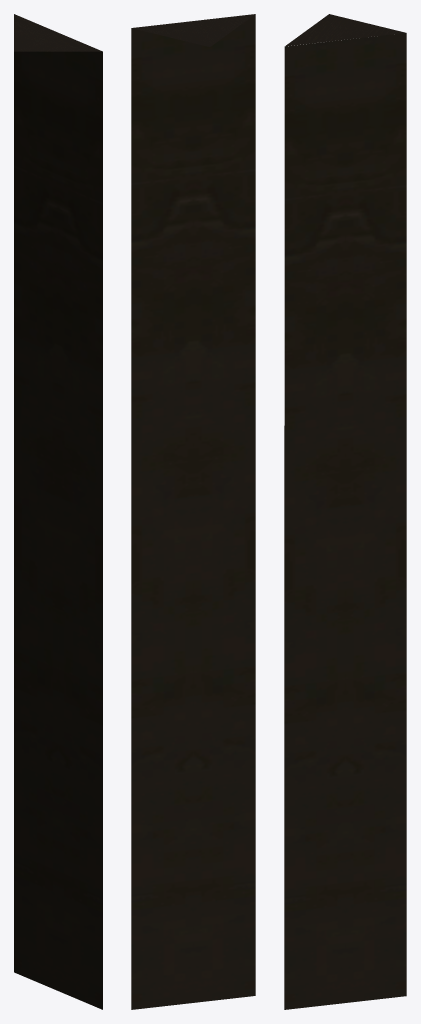
File: fortress_wall_convex_04.fbx
The picture shows the model from 3 angles, left to right: view 1: azimuth 90°, elevation 25°; view 2: azimuth 150°, elevation 25°; view 3: azimuth 330°, elevation 25°; orthographic projection. The views are drawn at different scales.
Visible parts, largest first — view 1: fortress_wall_convex_04-0; view 2: fortress_wall_convex_04-0; view 3: fortress_wall_convex_04-0.
Part boxes in pixels (x1=…): fortress_wall_convex_04-0: x1=14, y1=14, x2=102, y2=1009; fortress_wall_convex_04-0: x1=131, y1=14, x2=255, y2=1009; fortress_wall_convex_04-0: x1=284, y1=14, x2=406, y2=1009.
Bounding box in the file's own units: 0.4626 × 5.5 × 0.4624.
